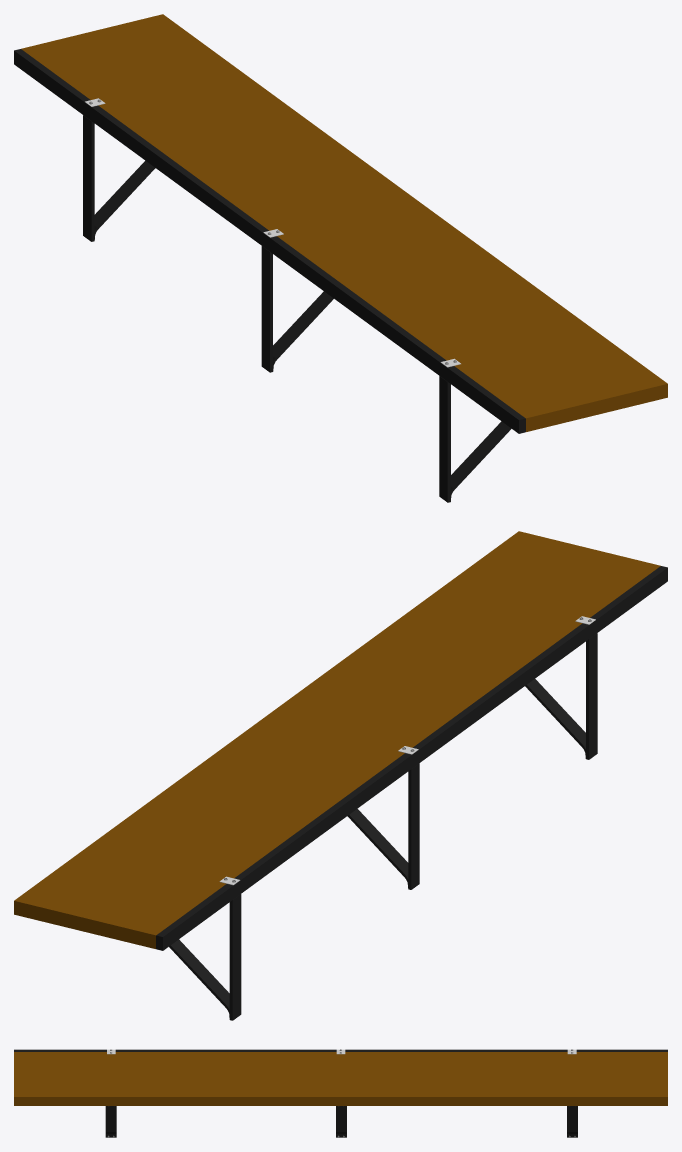
Rendered from WallMountedTableLarge.fbx.
3 renders of one model, top to bottom at view 1: azimuth 30°, elevation 25°; view 2: azimuth 150°, elevation 25°; view 3: azimuth 270°, elevation 25°, orthographic. The views are drawn at different scales.
Parts seen in each view (by area): view 1: MDL_Table, MDL_Wall_End, pasted__MDL_Wall_Mount1 (×2), MDL_Wall_Mount, MDL_Wall_Mount3, MDL_Wall_Mount2, pasted__MDL_Wall_Mount2; view 2: MDL_Table, MDL_Wall_End, pasted__MDL_Wall_Mount1 (×2), MDL_Wall_Mount2, MDL_Wall_Mount, MDL_Wall_Mount3, pasted__MDL_Wall_Mount2; view 3: MDL_Table, MDL_Wall_End, pasted__MDL_Wall_Mount1 (×2), pasted__MDL_Wall_Mount2.
Part boxes in pixels (x1,y1,x2,y2): MDL_Table: [21, 14, 667, 431]; MDL_Wall_End: [14, 49, 525, 433]; pasted__MDL_Wall_Mount1 (×2): [94, 160, 333, 371]; MDL_Wall_Mount: [439, 376, 450, 502]; MDL_Wall_Mount3: [261, 246, 272, 372]; MDL_Wall_Mount2: [83, 115, 94, 241]; pasted__MDL_Wall_Mount2: [451, 421, 511, 497]; MDL_Table: [14, 531, 660, 948]; MDL_Wall_End: [156, 566, 667, 950]; pasted__MDL_Wall_Mount1 (×2): [169, 809, 408, 1017]; MDL_Wall_Mount2: [229, 894, 241, 1020]; MDL_Wall_Mount: [586, 633, 597, 759]; MDL_Wall_Mount3: [408, 763, 419, 889]; pasted__MDL_Wall_Mount2: [525, 679, 585, 758]; MDL_Table: [14, 1052, 667, 1105]; MDL_Wall_End: [14, 1049, 667, 1051]; pasted__MDL_Wall_Mount1 (×2): [336, 1106, 577, 1137]; pasted__MDL_Wall_Mount2: [105, 1106, 116, 1137].
Size of the model in its own units: 1.7 by 1.49 by 9.98.
